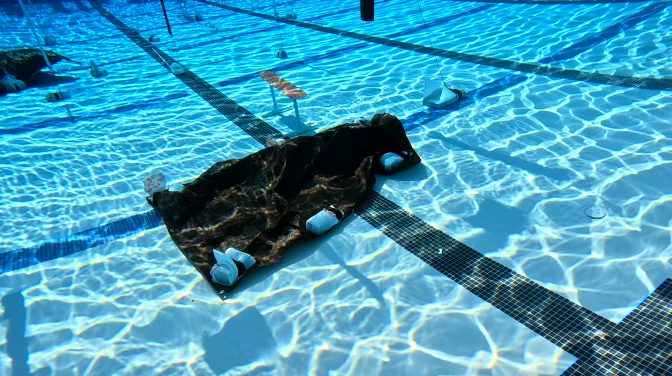pathmarker: (148, 114, 419, 293), (259, 71, 306, 100)
